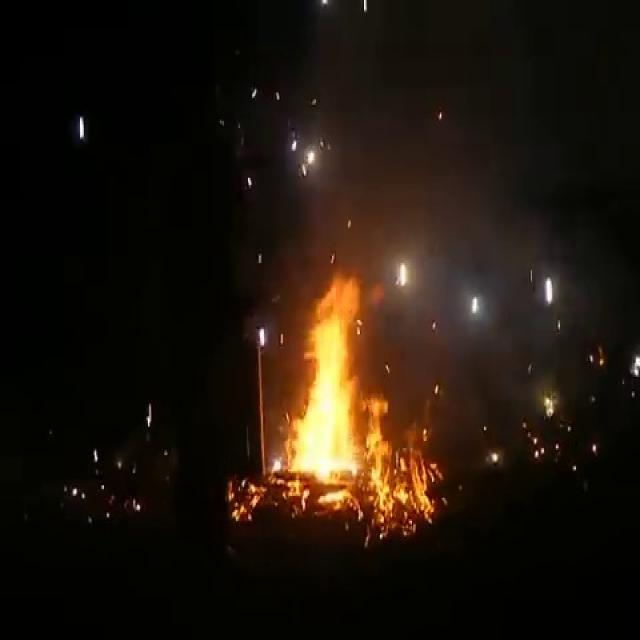Fire: (275, 266, 378, 499)
Smoke: (280, 1, 550, 286)
